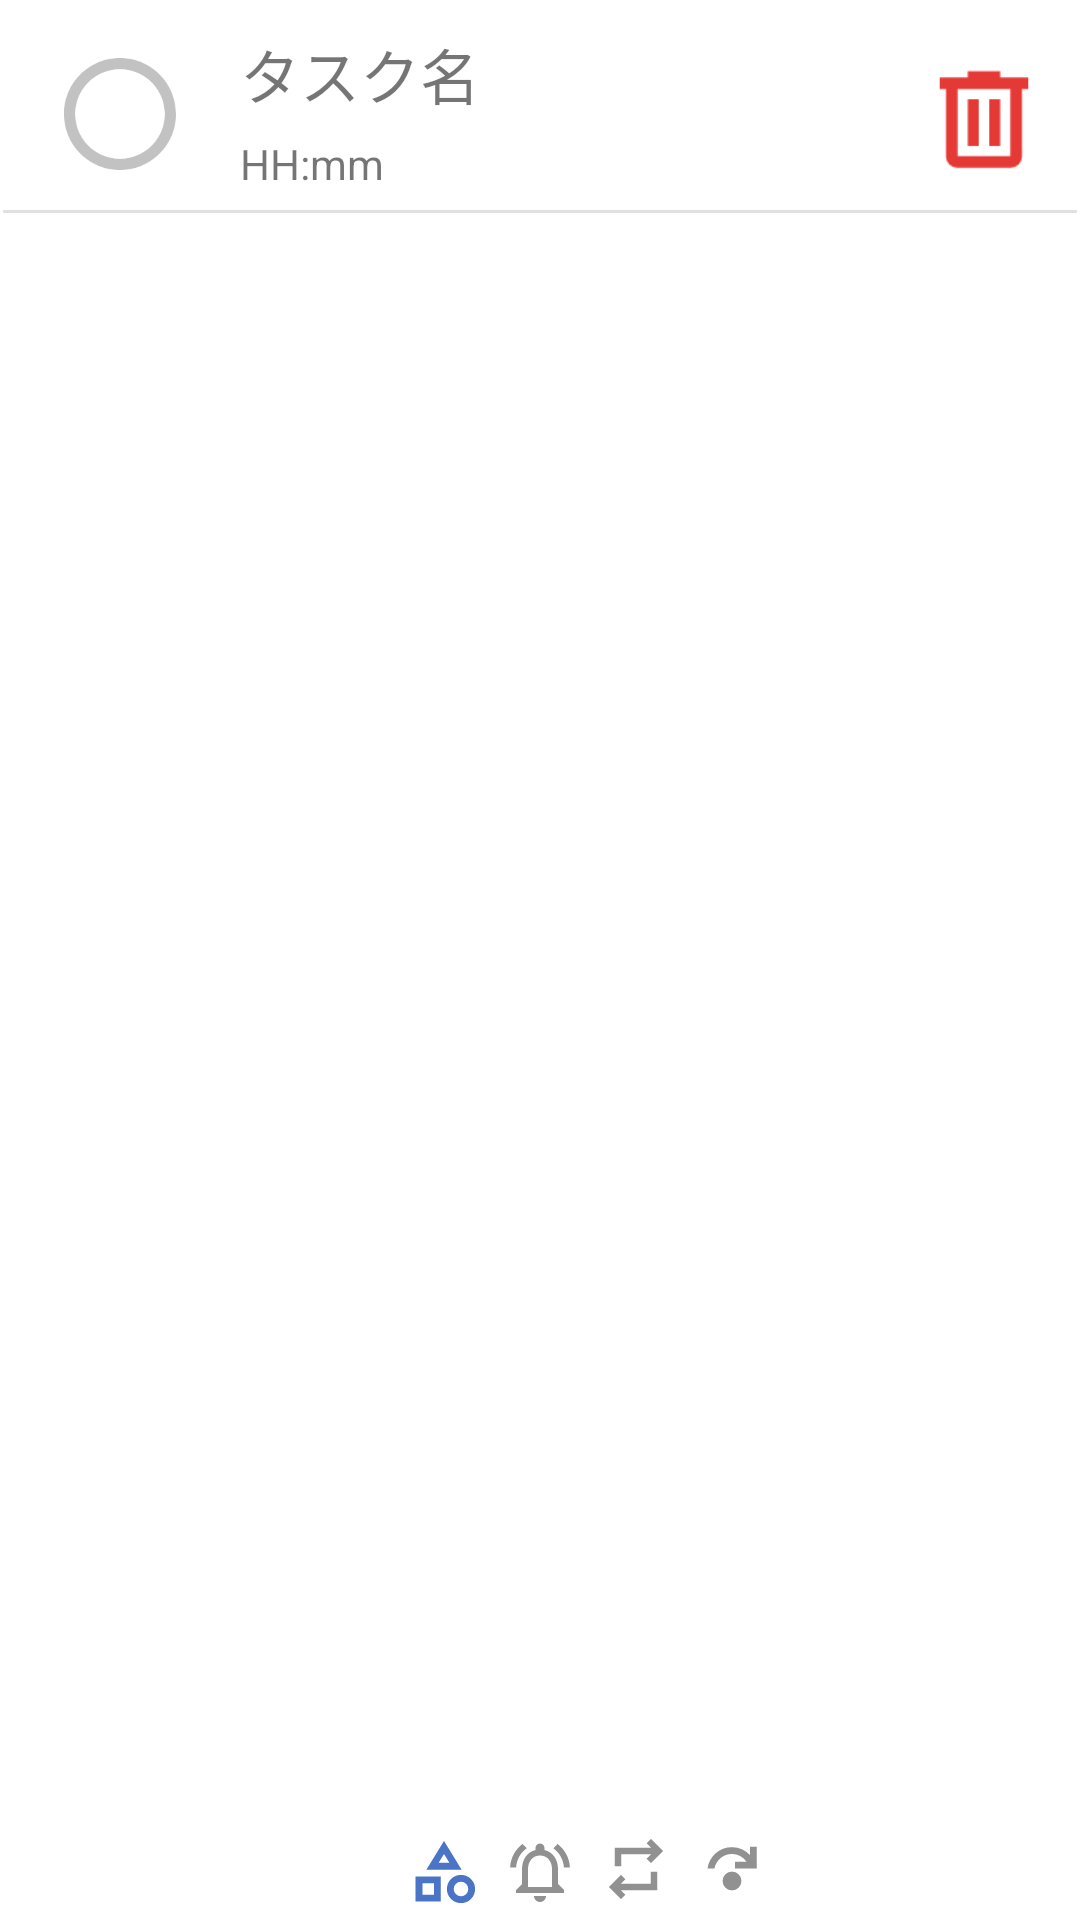

Icons on this 1080w x 1920h Android screen, each with the point to tap as (x,y):
task attribute carryover: (732,1868)
task attribute remind: (540,1872)
task attribute repeat: (636,1869)
task category other: (445,1872)
